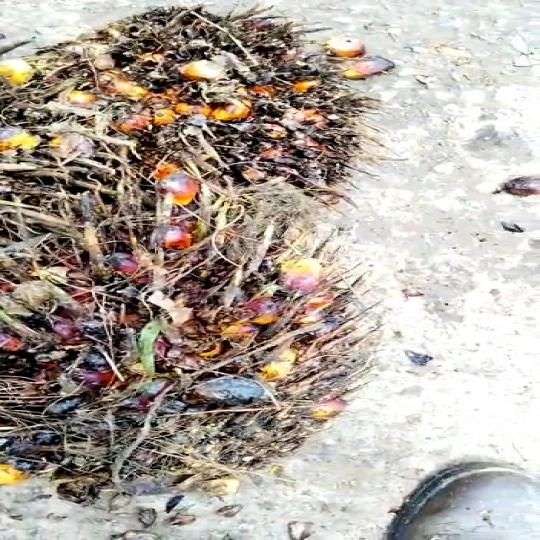terlalu masak: (0, 215, 362, 495), (42, 2, 380, 204)
